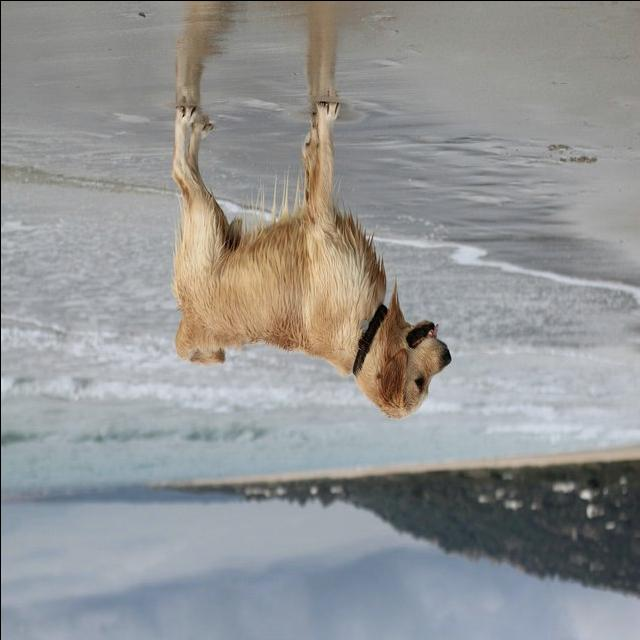retriever: (170, 100, 452, 420)
